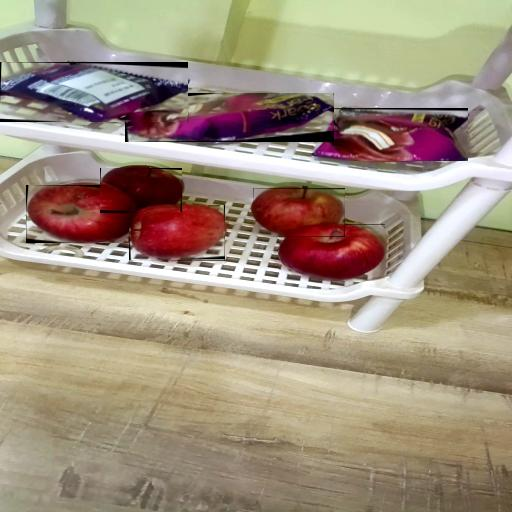Apple: (26, 185, 138, 243), (279, 224, 385, 281), (129, 206, 225, 262), (253, 188, 345, 237), (100, 168, 182, 212)
Choco Pie: (0, 62, 188, 122), (125, 93, 334, 142), (314, 108, 468, 161)
